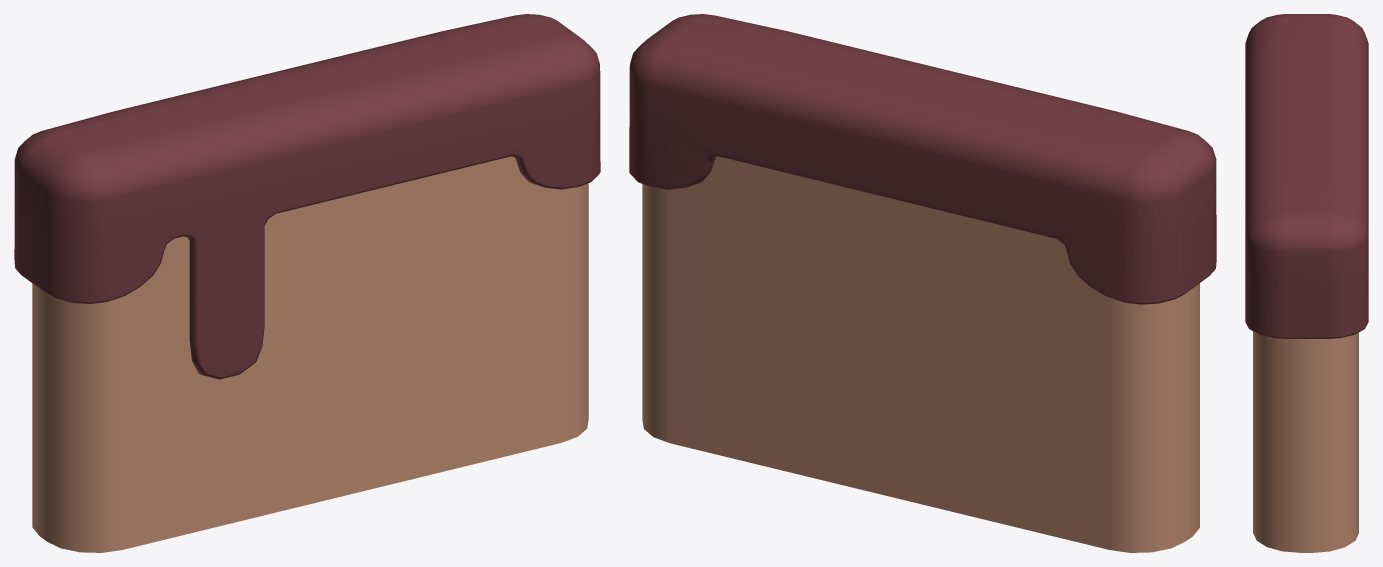
File: SM_Wall_Small.fbx
3 renders of one model, left to right at view 1: azimuth 30°, elevation 25°; view 2: azimuth 150°, elevation 25°; view 3: azimuth 270°, elevation 25°, orthographic. The views are drawn at different scales.
Visible parts, largest first — view 1: SM_Wall_Small; view 2: SM_Wall_Small; view 3: SM_Wall_Small.
Boxes of the visible parts, x1=… form: SM_Wall_Small: x1=14, y1=14, x2=600, y2=552; SM_Wall_Small: x1=629, y1=14, x2=1216, y2=552; SM_Wall_Small: x1=1245, y1=14, x2=1368, y2=552.
Size of the model in its own units: 743 by 502 by 172.
